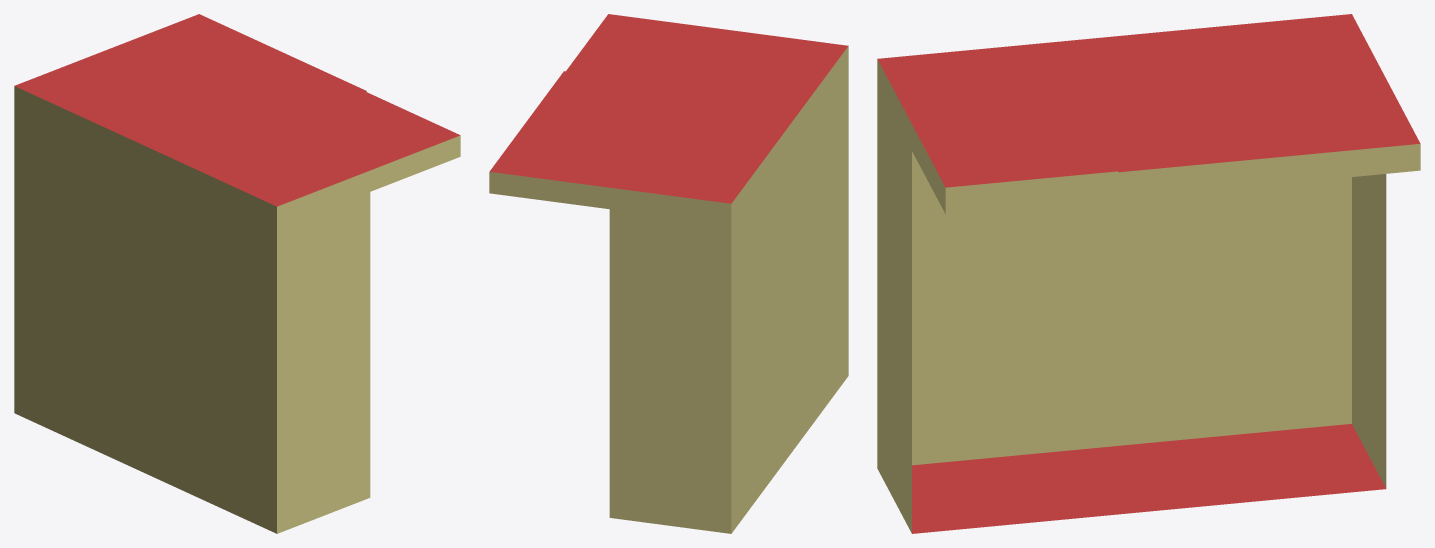
3 renders of one model, left to right at view 1: azimuth 30°, elevation 25°; view 2: azimuth 150°, elevation 25°; view 3: azimuth 270°, elevation 25°, orthographic. The views are drawn at different scales.
Size of the model in its own units: 5.11 by 6.76 by 5.62.
